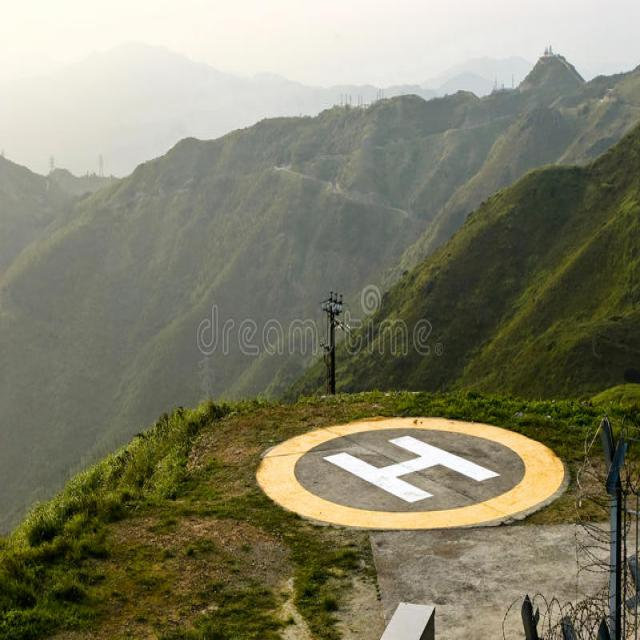helipad: (253, 413, 570, 531)
